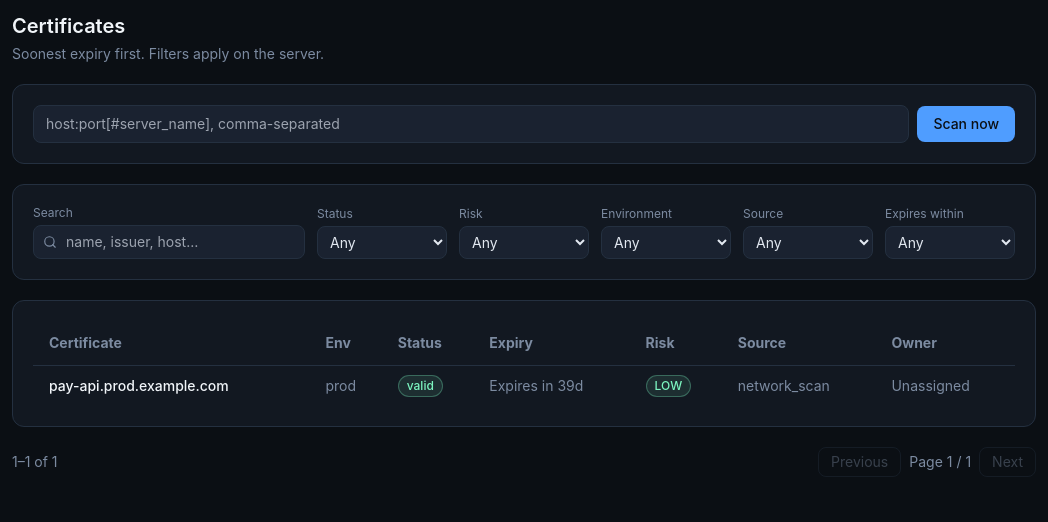
Scenario: Certificates › lets operators scan targets and refreshes the list
Expected: the link "pay-api.prod.example.com" is shown, top-left (49, 377), bottom-right (229, 394)
Type "10.0.0.1:443#a.example.com, 10.0.0.2" into the field named "Scan target" at (471, 124), box top-left (33, 105), bottom-right (909, 143)
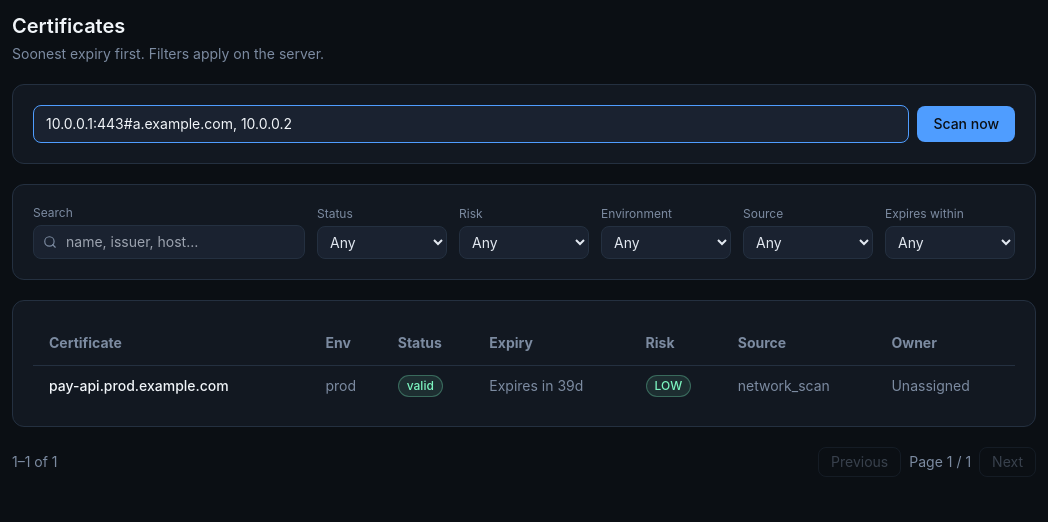
Click the button "Scan now" at (966, 124), box top-left (917, 106), bottom-right (1015, 142)
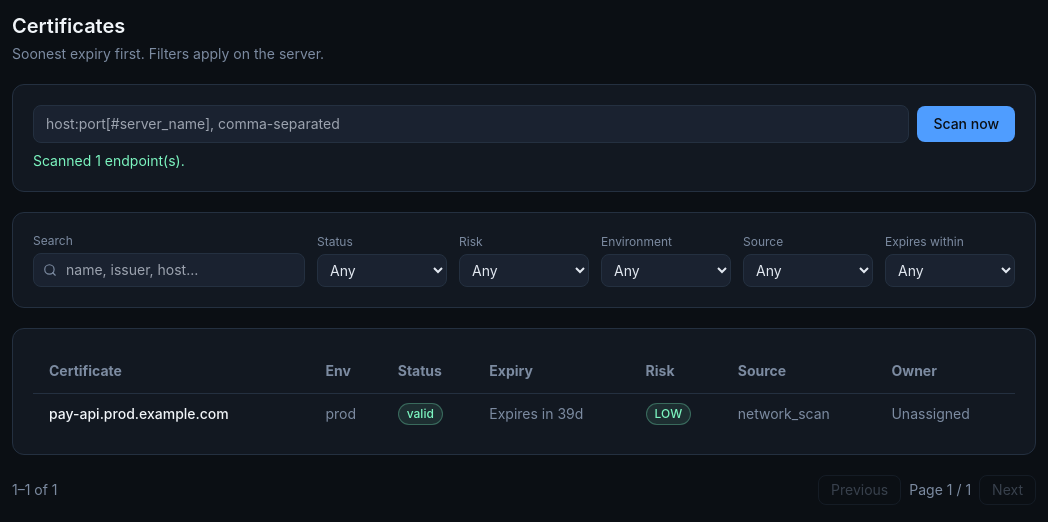
Result: the message reads "Scanned 1 endpoint(s)." at top-left (33, 152), bottom-right (185, 169)
